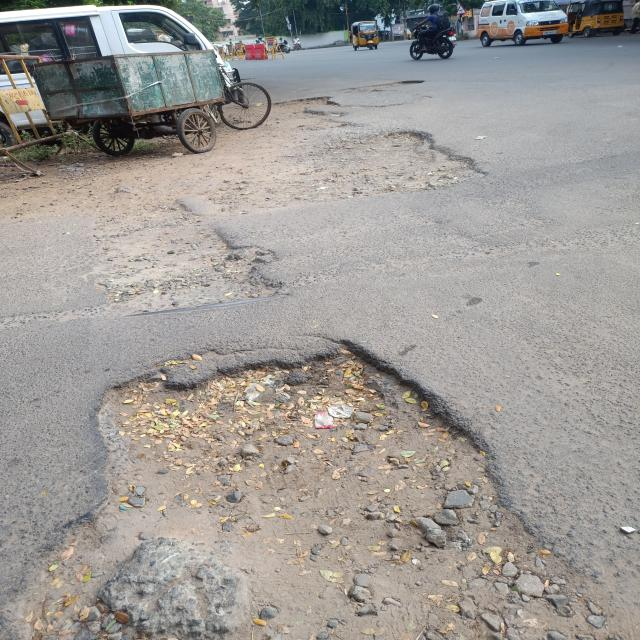potholes: (0, 332, 616, 640), (66, 128, 493, 313)
